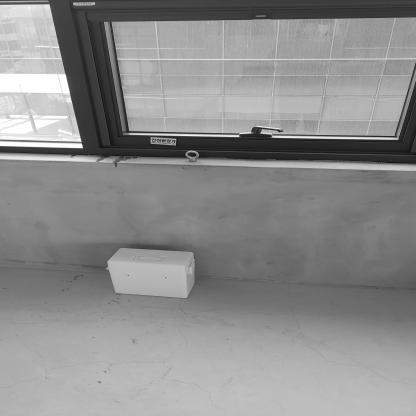DDL: (108, 248, 198, 299)
